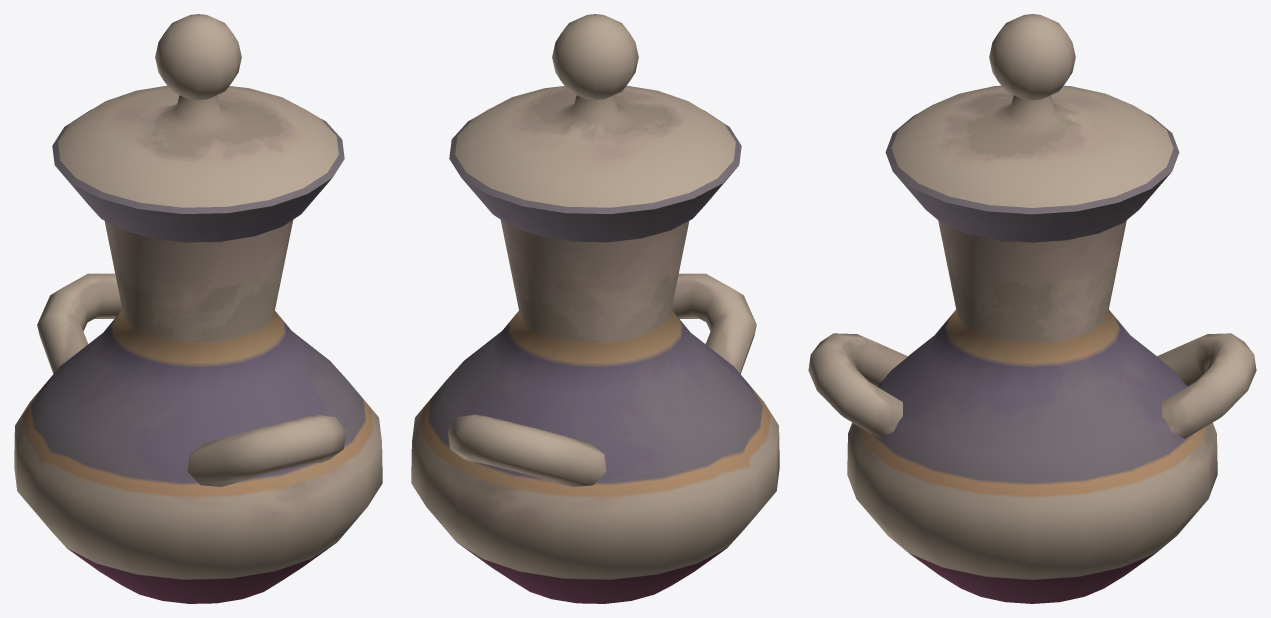
The model's file is POT_HEAL_Generic Variant (3).fbx.
3 views of the same model, side by side, from view 1: azimuth 30°, elevation 25°; view 2: azimuth 150°, elevation 25°; view 3: azimuth 270°, elevation 25° (orthographic).
Parts seen in each view (by area): view 1: jar1, jar1Tap; view 2: jar1, jar1Tap; view 3: jar1, jar1Tap.
Part boxes in pixels (x1,y1,x2,y2): jar1: (14, 109, 382, 603); jar1Tap: (58, 14, 338, 207); jar1: (411, 109, 779, 603); jar1Tap: (455, 14, 735, 207); jar1: (808, 114, 1256, 603); jar1Tap: (891, 14, 1173, 207).
Bounding box in the file's own units: 241 × 393 × 291.
Materials: 1 (1 with a texture image).
